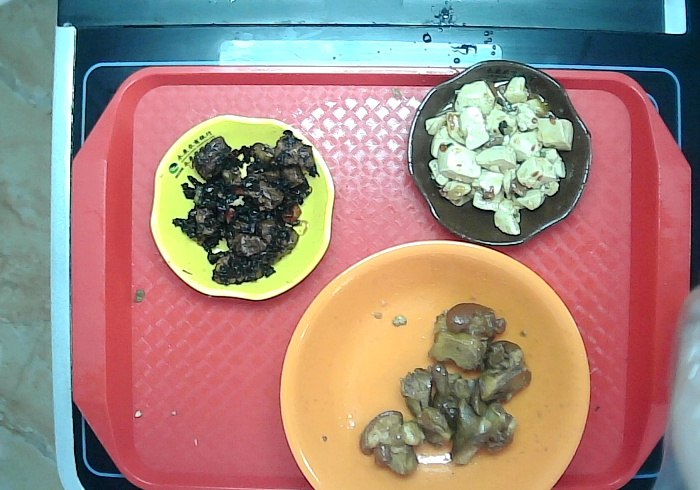YKMZ-Huang_Se_Ao_Bian_Wan: (148, 113, 337, 304)
YKMZ-Ju_Se_Tang_Wan: (279, 239, 594, 490)
YKMZ-Ka_Fei_Ao_Bian_Wan: (405, 59, 595, 250)
